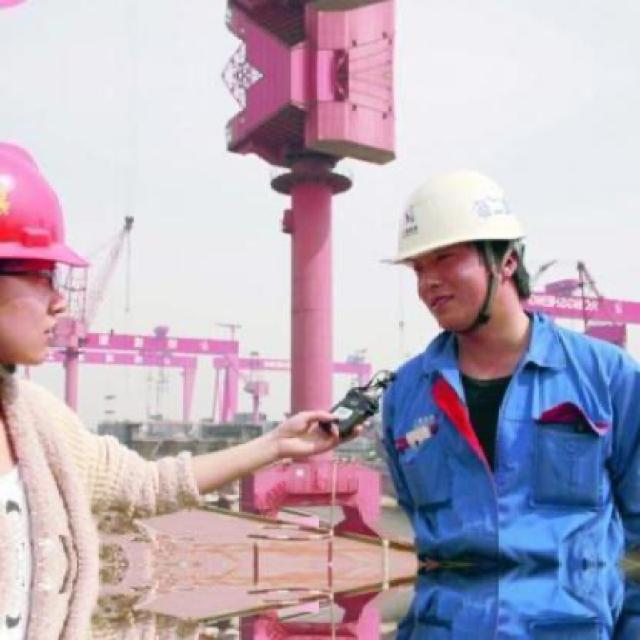con casco: (336, 149, 562, 390), (0, 122, 93, 378)
